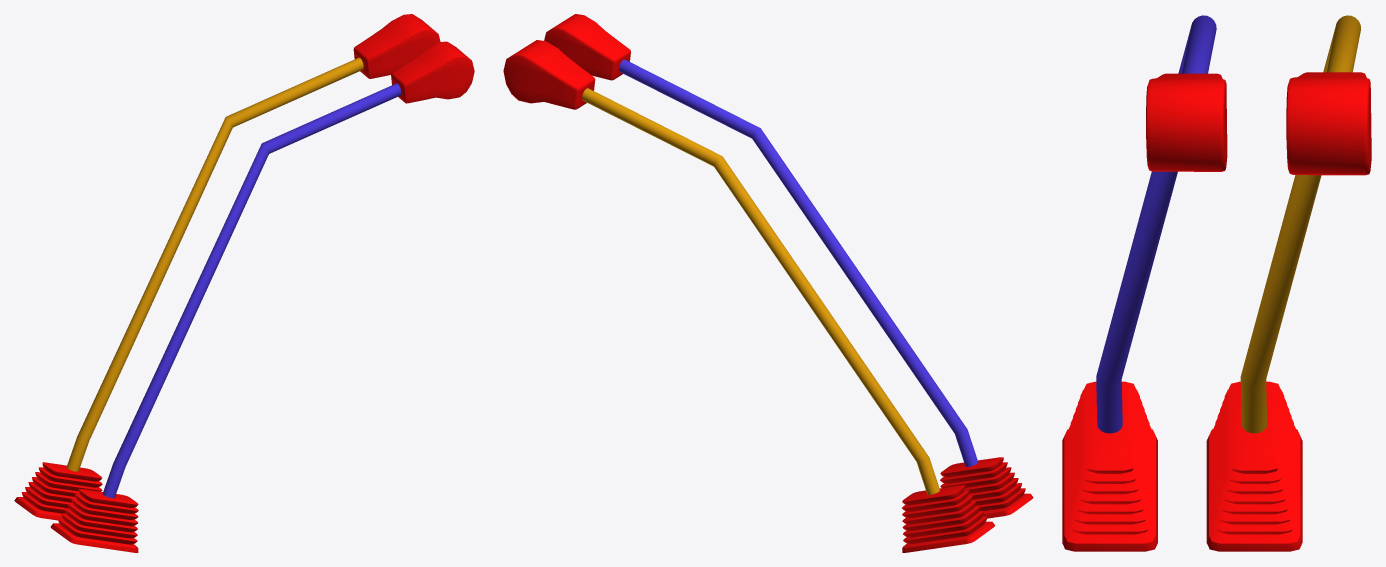
File: tie rod.FBX
3 views of the same model, side by side, from view 1: azimuth 30°, elevation 25°; view 2: azimuth 150°, elevation 25°; view 3: azimuth 270°, elevation 25° (orthographic). The views are drawn at different scales.
Parts seen in each view (by area): view 1: Cylinder973, Cylinder055, Box058, Box204, Box203, Box073; view 2: Cylinder973, Cylinder055, Box073, Box203, Box058, Box204; view 3: Box073, Box058, Box203, Cylinder973, Cylinder055, Box204.
Boxes of the visible parts, left/top/right/bottom form: Cylinder973: left=102, top=83, right=401, bottom=498; Cylinder055: left=66, top=57, right=363, bottom=471; Box058: left=50, top=489, right=138, bottom=552; Box204: left=391, top=41, right=474, bottom=103; Box203: left=353, top=14, right=440, bottom=78; Box073: left=14, top=462, right=102, bottom=520; Cylinder973: left=619, top=59, right=978, bottom=466; Cylinder055: left=582, top=88, right=939, bottom=494; Box073: left=902, top=485, right=994, bottom=552; Box203: left=503, top=40, right=595, bottom=109; Box058: left=940, top=457, right=1033, bottom=518; Box204: left=544, top=14, right=630, bottom=80; Box073: left=1206, top=381, right=1302, bottom=551; Box058: left=1062, top=381, right=1157, bottom=551; Box203: left=1286, top=72, right=1371, bottom=175; Cylinder973: left=1096, top=15, right=1216, bottom=433; Cylinder055: left=1240, top=15, right=1360, bottom=433; Box204: left=1146, top=73, right=1227, bottom=171.
Size of the model in its own units: 16.23 by 14.54 by 5.09.
